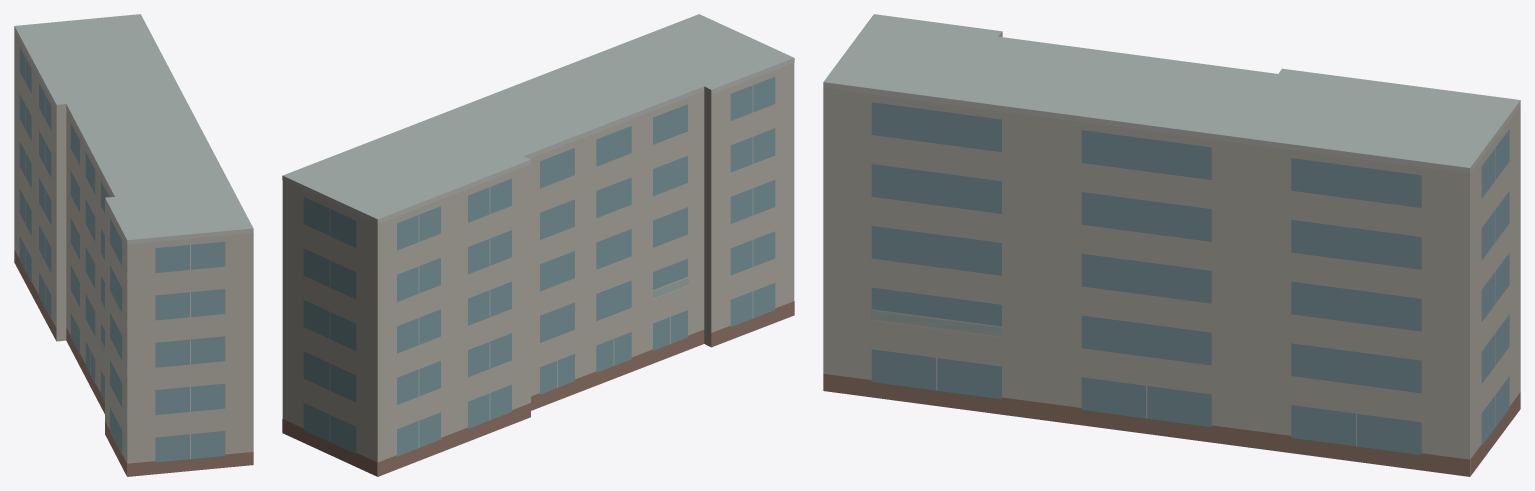
Rendered from survey-upis-32706156.glb.
3 renders of one model, left to right at view 1: azimuth 30°, elevation 25°; view 2: azimuth 150°, elevation 25°; view 3: azimuth 270°, elevation 25°, orthographic. The views are drawn at different scales.
Visible parts, largest first — view 1: survey-upis-32706156.tmp; view 2: survey-upis-32706156.tmp; view 3: survey-upis-32706156.tmp.
Part boxes in pixels (x1=…): survey-upis-32706156.tmp: x1=14, y1=14, x2=253, y2=476; survey-upis-32706156.tmp: x1=282, y1=14, x2=794, y2=476; survey-upis-32706156.tmp: x1=823, y1=14, x2=1520, y2=476.
Size of the model in its own units: 14.13 by 13.2 by 27.03.
